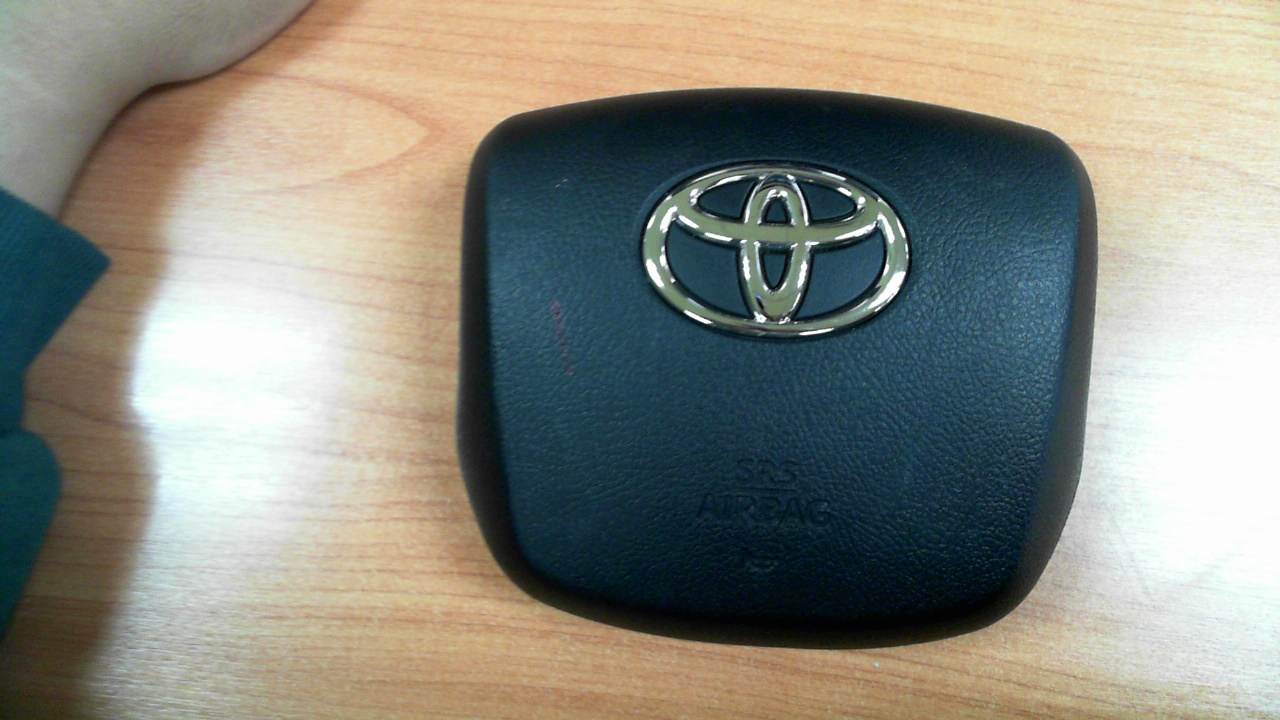Airbag: (453, 85, 1101, 653)
Toyota: (642, 163, 910, 338)
